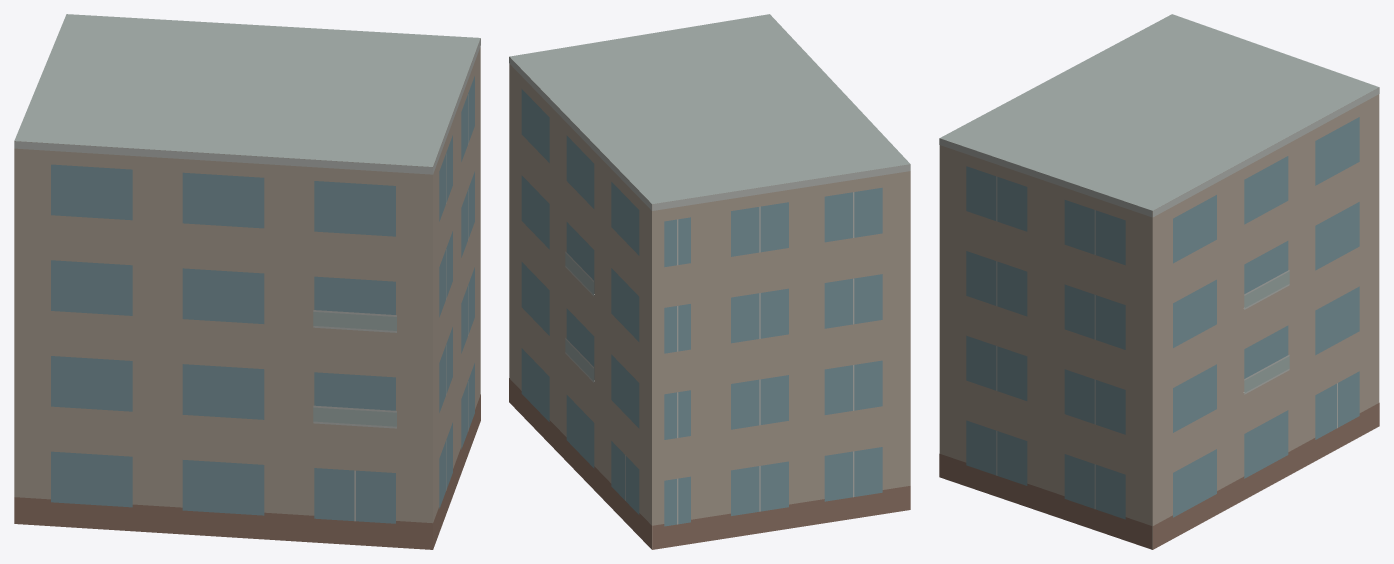
File: survey-upis-32810828.glb
3 renders of one model, left to right at view 1: azimuth 30°, elevation 25°; view 2: azimuth 150°, elevation 25°; view 3: azimuth 270°, elevation 25°, orthographic. The views are drawn at different scales.
Visible parts, largest first — view 1: survey-upis-32810828.tmp; view 2: survey-upis-32810828.tmp; view 3: survey-upis-32810828.tmp.
Boxes of the visible parts, x1,y1,x2,y2 form: survey-upis-32810828.tmp: [14, 14, 480, 549]; survey-upis-32810828.tmp: [509, 14, 910, 549]; survey-upis-32810828.tmp: [939, 14, 1379, 549].
Size of the model in its own units: 15.33 by 12.3 by 14.48.
